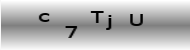7: (63, 24, 78, 39)
T: (90, 9, 104, 25)
U: (129, 12, 145, 27)
c: (38, 12, 51, 23)
j: (105, 14, 113, 31)
